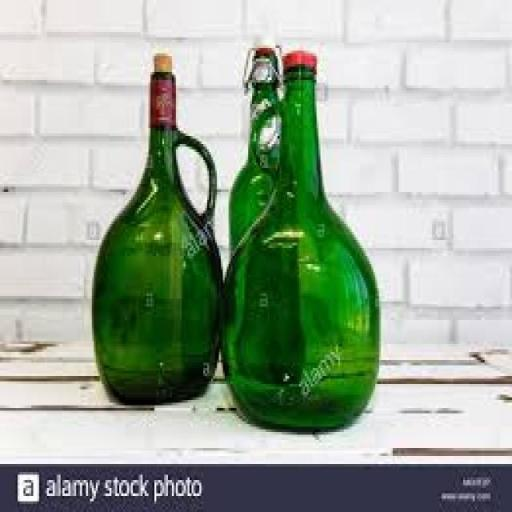glass: (220, 54, 383, 432), (90, 63, 226, 406), (228, 43, 287, 260)
